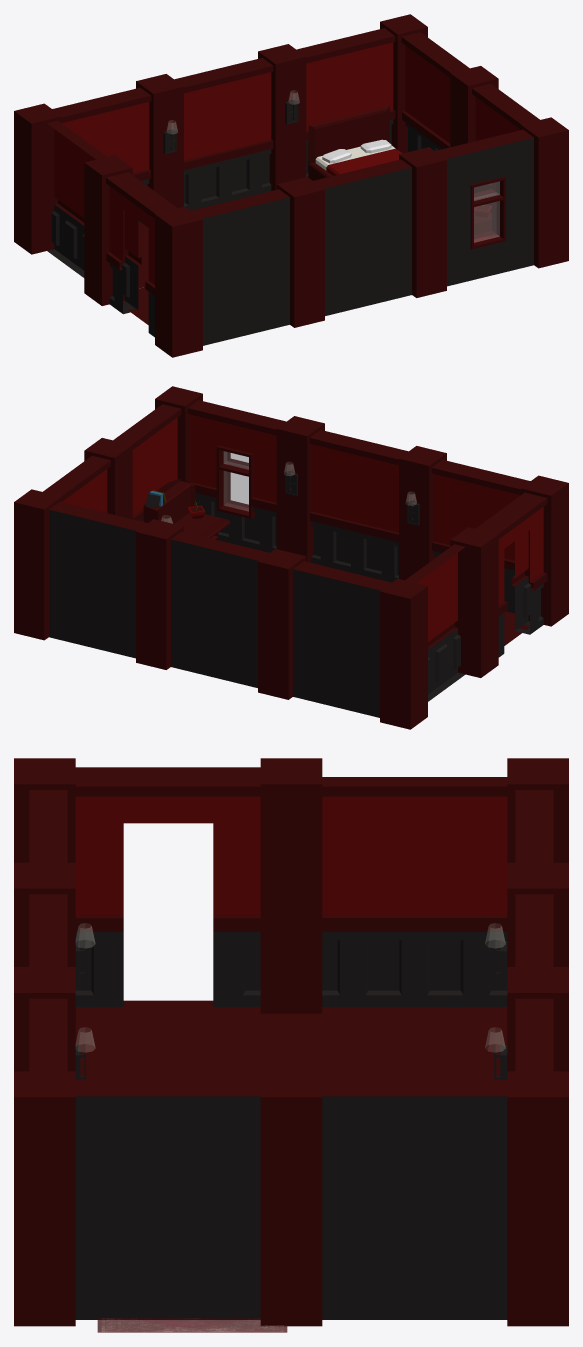
Rendered from quarto.glb.
3 renders of one model, top to bottom at view 1: azimuth 30°, elevation 25°; view 2: azimuth 150°, elevation 25°; view 3: azimuth 270°, elevation 25°, orthographic. The views are drawn at different scales.
Visible parts, largest first — view 1: Wall.022, Wall.013, Wall.021, Wall.018, Wall.017, Wall.029, Wall.035, Wall.019, Wall.016, Wall.014, Wall.028, Wall.026 (+15 smaller); view 2: Wall.021, Wall.014, Wall.017, Wall.022, Wall.018, Wall.035, Wall.036, Wall.013, Wall.019, Wall.034, Wall.032, Wall.031 (+11 smaller); view 3: Wall.015, Wall.016, Wall.012, Wall.019, Wall.036, Wall.030, Wall.027, Wall.031, Plane, Plane.001, Wall.028, Wall.034 (+14 smaller).
Boxes of the visible parts, x1,y1,x2,y2 form: Wall.022: (313, 159, 411, 315); Wall.013: (191, 189, 289, 345); Wall.021: (174, 58, 273, 210); Wall.018: (435, 129, 533, 286); Wall.017: (296, 28, 395, 176); Wall.029: (155, 206, 202, 357); Wall.035: (14, 103, 61, 254); Wall.019: (106, 172, 177, 337); Wall.016: (401, 32, 469, 151); Wall.014: (52, 87, 151, 224); Wall.028: (276, 177, 324, 327); Wall.026: (399, 147, 446, 297); Wall.021: (171, 531, 269, 687); Wall.014: (293, 561, 391, 717); Wall.017: (49, 501, 147, 658); Wall.022: (309, 430, 408, 582); Wall.018: (187, 400, 286, 552); Wall.035: (380, 578, 427, 729); Wall.036: (450, 527, 498, 677); Wall.013: (431, 459, 530, 613); Wall.019: (475, 492, 547, 657); Wall.034: (258, 549, 306, 699); Wall.032: (136, 519, 183, 669); Wall.031: (14, 489, 61, 640); Wall.015: (75, 1080, 260, 1319); Wall.016: (322, 1080, 507, 1319); Wall.012: (322, 777, 507, 1006); Wall.019: (75, 767, 260, 1006); Wall.036: (260, 758, 322, 1013); Wall.030: (260, 1071, 322, 1326); Wall.027: (14, 1071, 75, 1326); Wall.031: (507, 1071, 568, 1326); Plane: (75, 1000, 291, 1079); Plane.001: (291, 1007, 507, 1079); Wall.028: (14, 862, 75, 966); Wall.034: (507, 862, 568, 966).
Bounding box in the file's own units: 13.32 × 4.11 × 9.01.
Materials: 10 (1 with a texture image).
